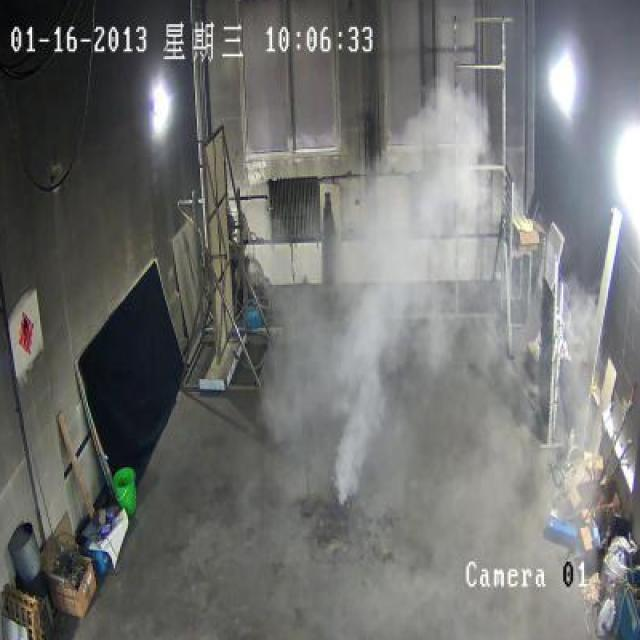fire: (328, 73, 499, 292), (327, 294, 438, 504)
